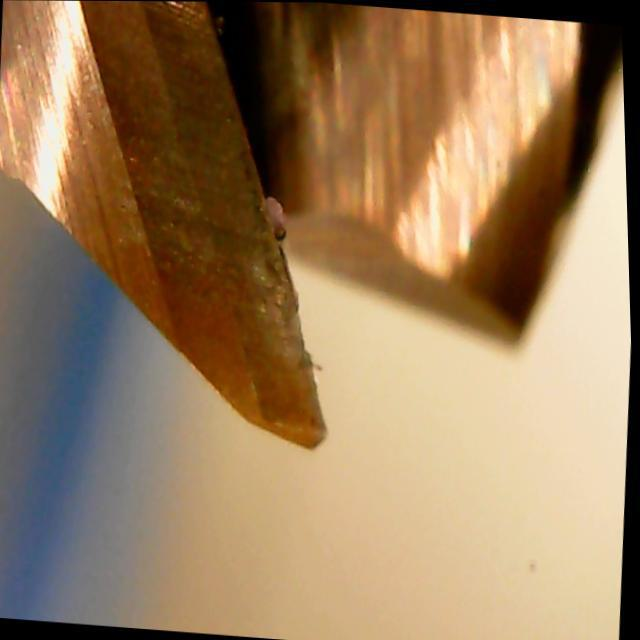Tool-wear-class-1: (185, 278, 362, 461)
